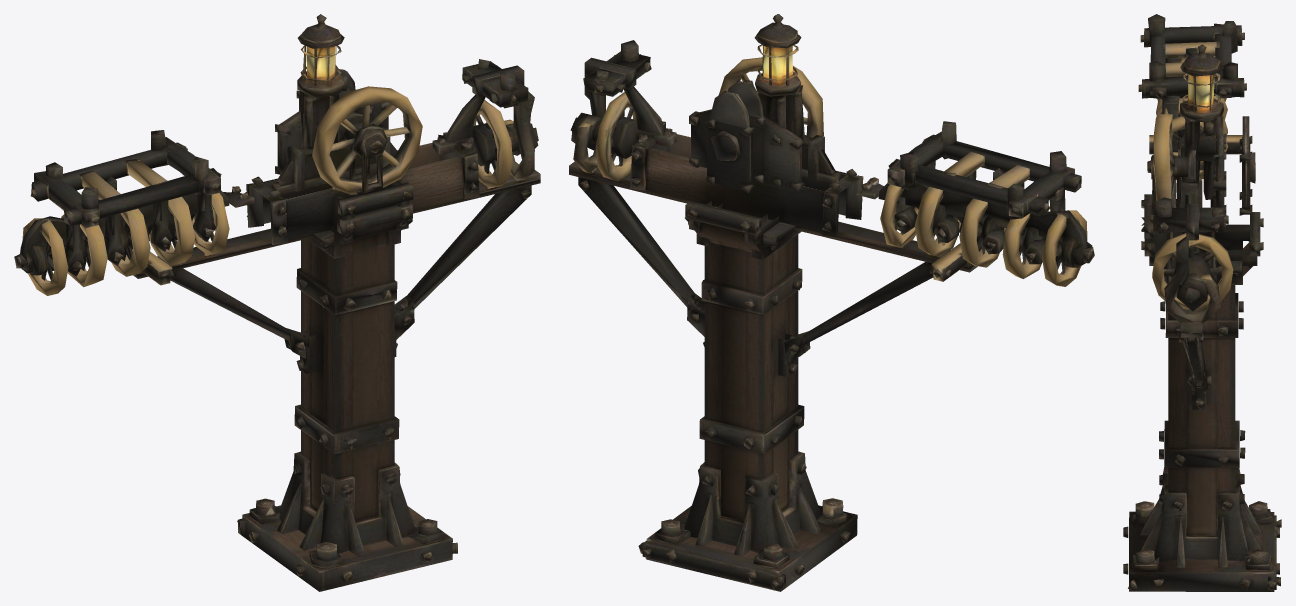
File: SM_Ropeway_03_Pulley_Tower_Head_LowPoly.glb
3 renders of one model, left to right at view 1: azimuth 30°, elevation 25°; view 2: azimuth 150°, elevation 25°; view 3: azimuth 270°, elevation 25°, orthographic. The views are drawn at different scales.
Visible parts, largest first — view 1: SM_Ropeway_03_Pulley_Tower_Head_LowPoly; view 2: SM_Ropeway_03_Pulley_Tower_Head_LowPoly; view 3: SM_Ropeway_03_Pulley_Tower_Head_LowPoly.
Part boxes in pixels (<box>): SM_Ropeway_03_Pulley_Tower_Head_LowPoly: <box>14,14,540,591</box>; SM_Ropeway_03_Pulley_Tower_Head_LowPoly: <box>569,14,1094,591</box>; SM_Ropeway_03_Pulley_Tower_Head_LowPoly: <box>1123,14,1281,591</box>.
Size of the model in its own units: 2.95 by 2.95 by 0.8375.
1 material, 1 textured.
